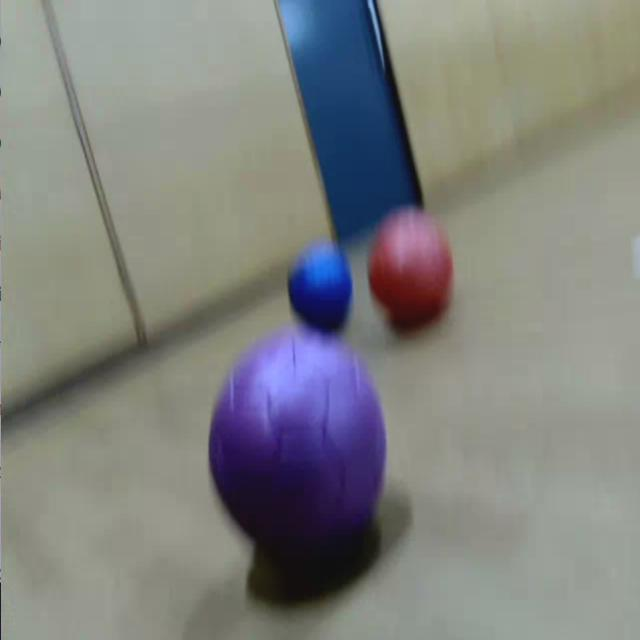blue_ball: (287, 241, 352, 331)
purple_ball: (208, 328, 386, 550)
red_ball: (368, 210, 452, 328)
